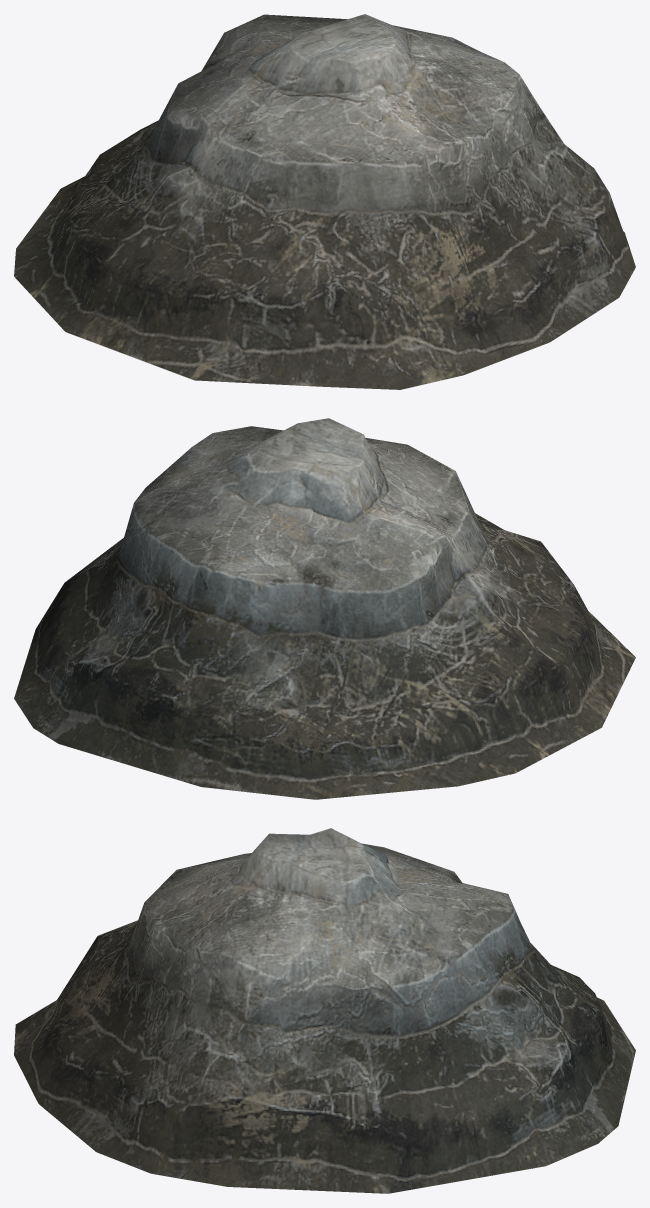
Rendered from mountain4.glb.
The picture shows the model from 3 angles, top to bottom: view 1: azimuth 30°, elevation 25°; view 2: azimuth 150°, elevation 25°; view 3: azimuth 270°, elevation 25°; orthographic projection. The views are drawn at different scales.
Visible parts, largest first — view 1: mountain1; view 2: mountain1; view 3: mountain1.
Part boxes in pixels (x1=…): mountain1: x1=14, y1=14, x2=635, y2=389; mountain1: x1=14, y1=418, x2=635, y2=799; mountain1: x1=14, y1=828, x2=635, y2=1193.
Size of the model in its own units: 8.69 by 3.48 by 8.66.
1 material, 1 textured.
